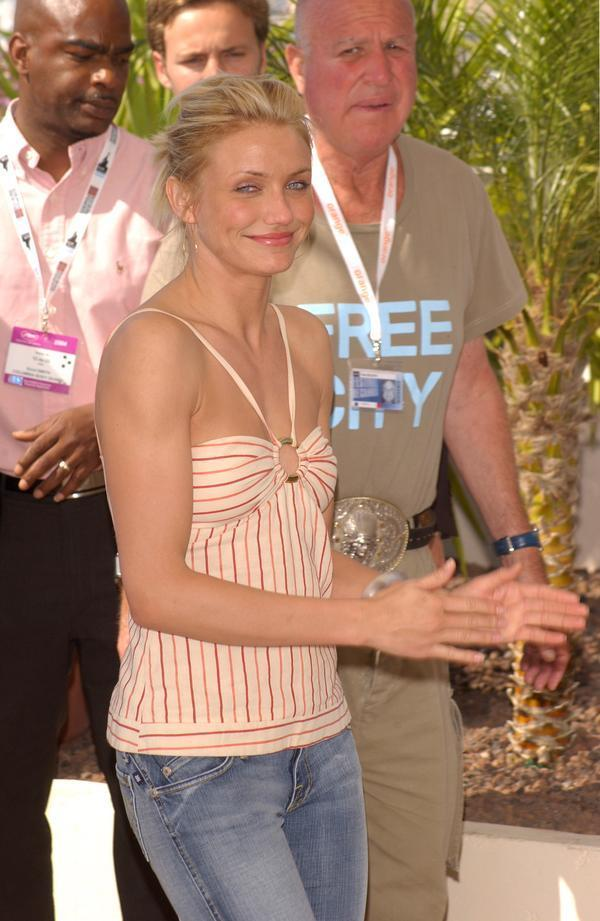person: (90, 77, 583, 921)
